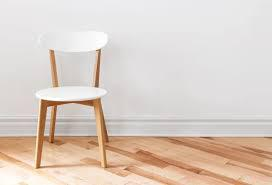chair: (31, 12, 117, 171)
